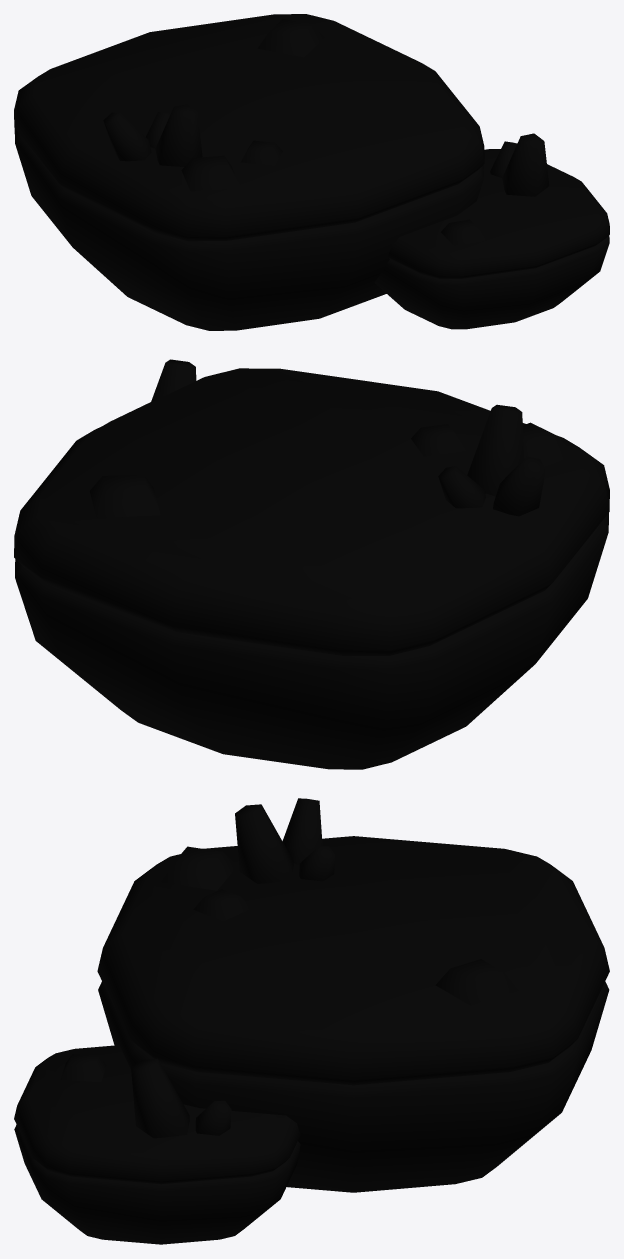
The model's file is platform.glb.
The picture shows the model from 3 angles, top to bottom: view 1: azimuth 30°, elevation 25°; view 2: azimuth 150°, elevation 25°; view 3: azimuth 270°, elevation 25°; orthographic projection. The views are drawn at different scales.
Visible parts, largest first — view 1: platform; view 2: platform; view 3: platform.
Part boxes in pixels (box(x1,y1,x2,y2)): platform: box(14, 14, 609, 330); platform: box(14, 359, 609, 769); platform: box(14, 798, 609, 1244).
Size of the model in its own units: 1 by 0.4696 by 1.
Materials: 1 (1 with a texture image).
